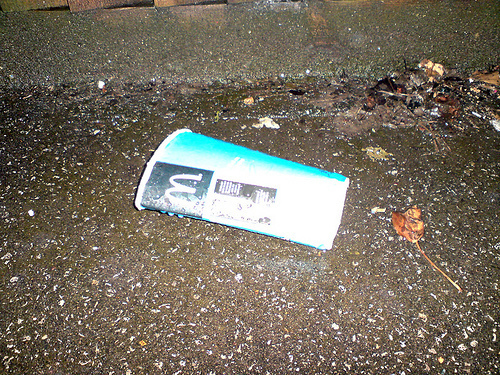litter: (135, 126, 348, 250)
